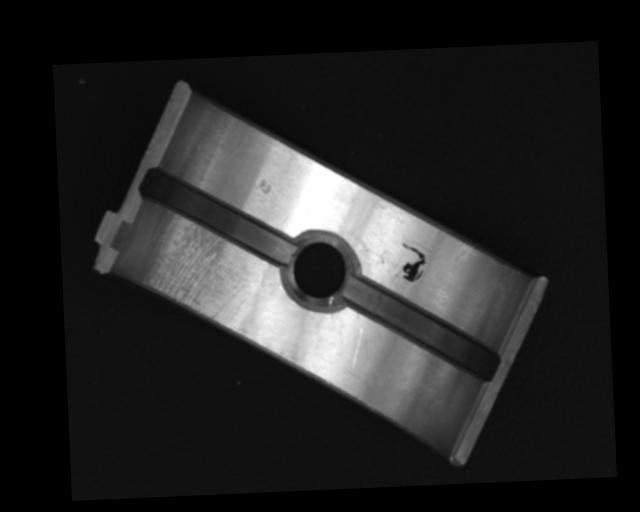blot: (399, 240, 428, 285)
bruise: (254, 175, 273, 195)
gap: (344, 273, 505, 387), (139, 162, 293, 268)
hole: (282, 229, 361, 312)
nick: (350, 327, 363, 370)
scratch: (140, 216, 256, 328)
